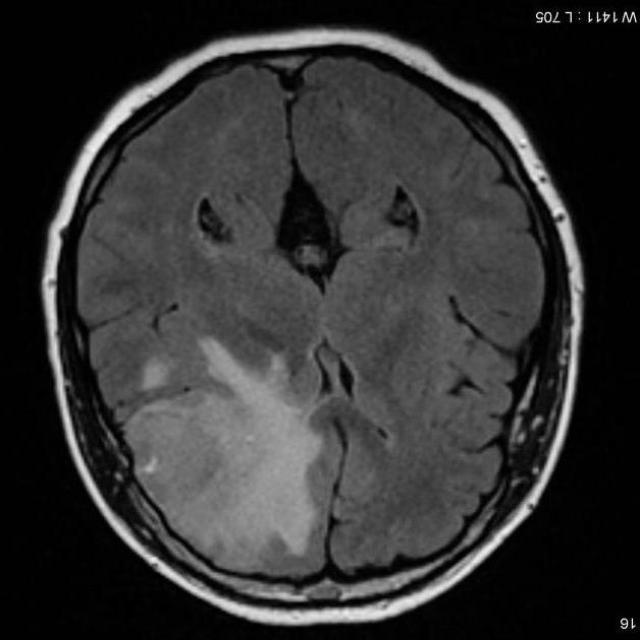Tumor-Cell: (106, 368, 364, 538)
